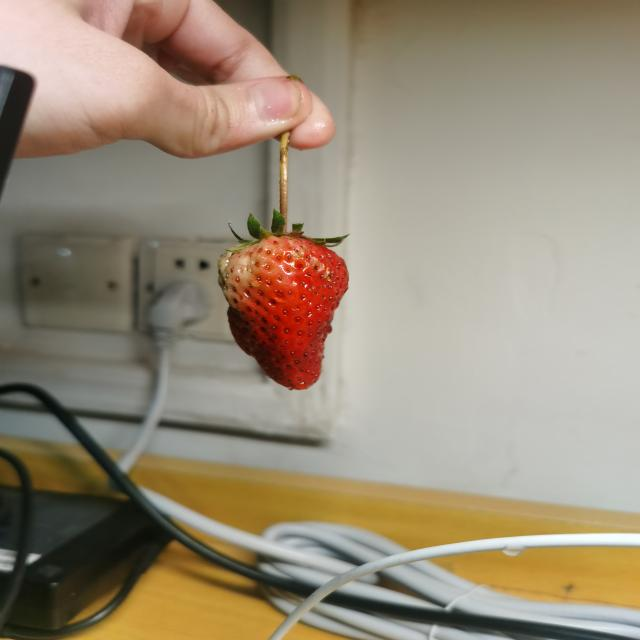stem: (280, 165, 288, 235)
strawberry: (218, 233, 349, 390)
